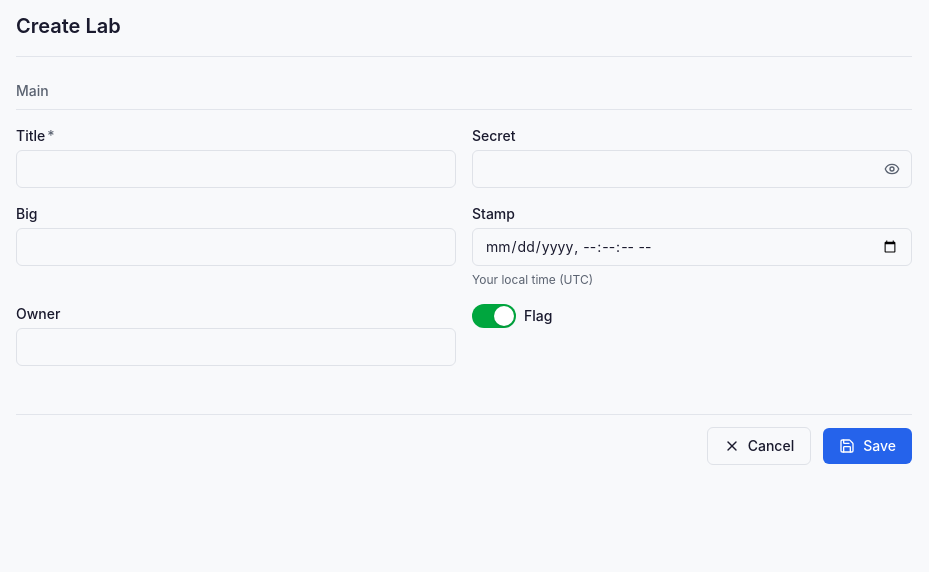
it: Record form regressions (#649) › create applies metadata defaults and shows the backend error message once, keeping the values
In the field labelled "Title*": [236, 169] box x1=16 y1=150 x2=456 y2=188, type "Dupe"
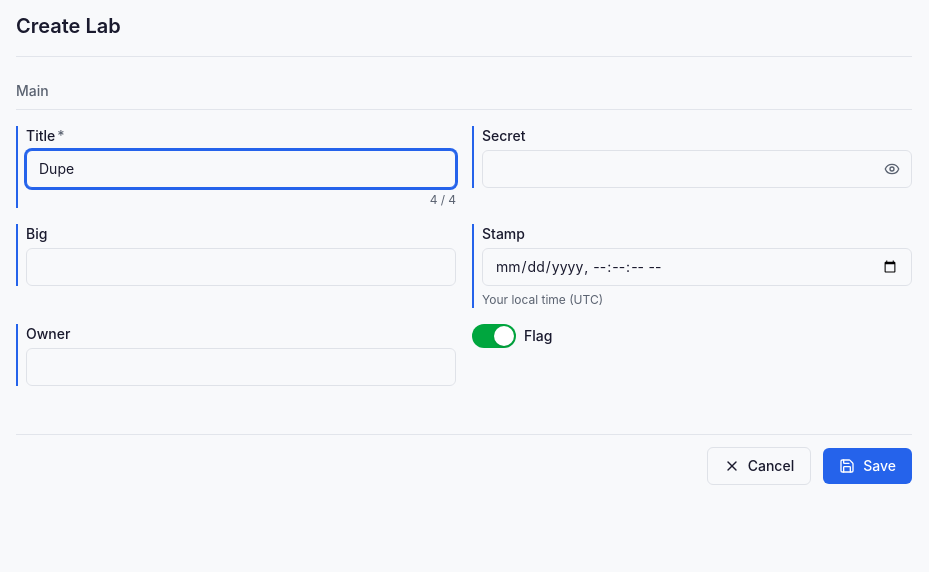
Click the button "Save": [868, 466] box x1=823 y1=448 x2=912 y2=484
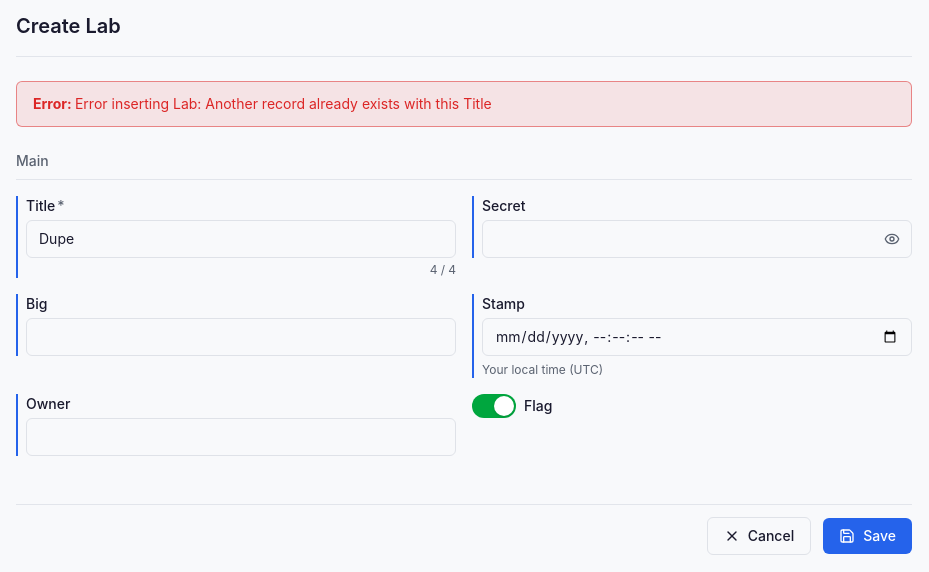
Expected: the text "Error inserting Lab: Another record already exists with this Title" is shown, x1=75 y1=95 x2=492 y2=112
